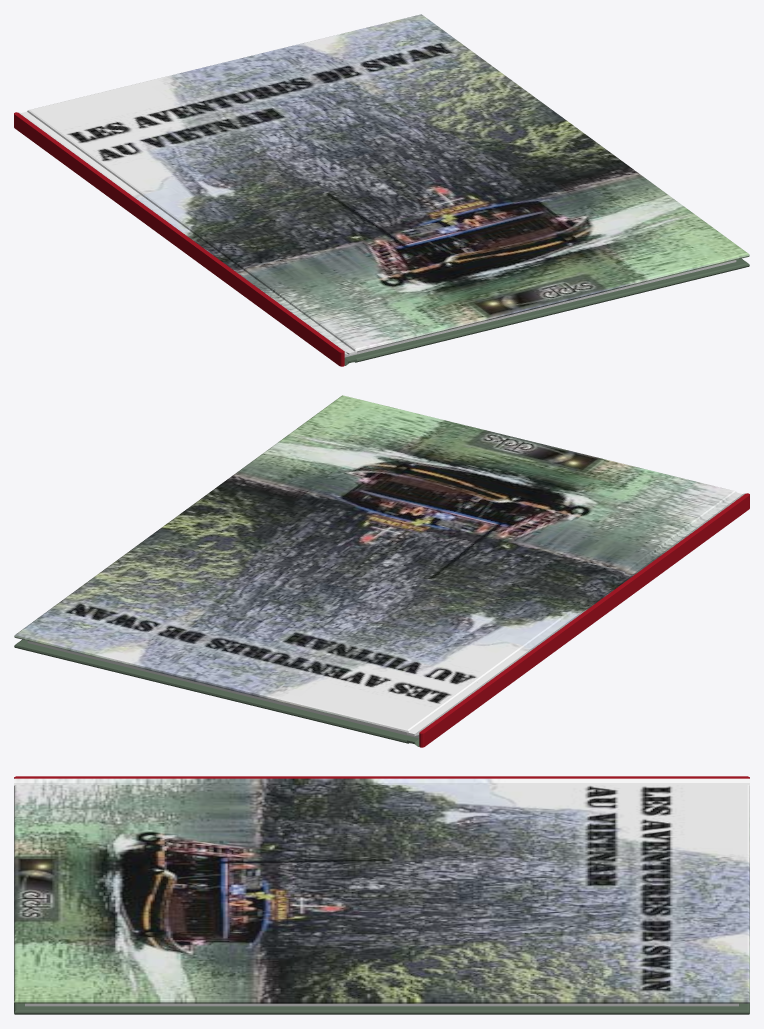
The picture shows the model from 3 angles, top to bottom: view 1: azimuth 30°, elevation 25°; view 2: azimuth 150°, elevation 25°; view 3: azimuth 270°, elevation 25°; orthographic projection. The views are drawn at different scales.
Parts seen in each view (by area): view 1: face_avant, tranche, face_arriere, page; view 2: face_avant, tranche, face_arriere, page; view 3: face_avant, face_arriere, page, tranche.
Boxes of the visible parts, <box> form: face_avant: <box>18,14,749,355</box>; tranche: <box>14,112,344,366</box>; face_arriere: <box>344,258,749,365</box>; page: <box>344,260,736,357</box>; face_avant: <box>14,395,745,736</box>; tranche: <box>419,493,749,747</box>; face_arriere: <box>14,639,419,746</box>; page: <box>27,641,419,738</box>; face_avant: <box>14,778,749,1003</box>; face_arriere: <box>14,1003,749,1014</box>; page: <box>25,1003,738,1006</box>; tranche: <box>14,776,749,778</box>.
Bounding box in the file's own units: 21.44 × 0.7034 × 29.8.
4 materials, 1 textured.
